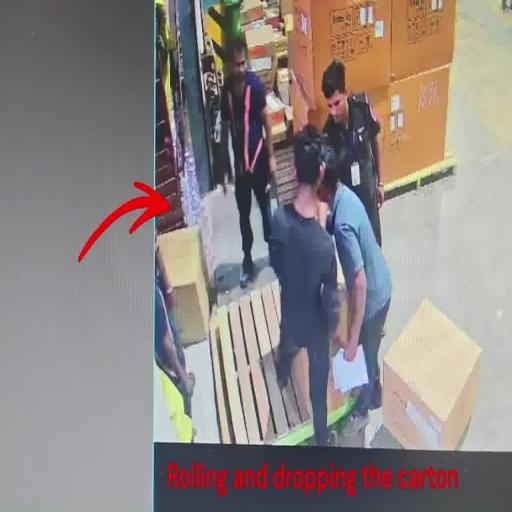carton: (381, 298, 482, 452), (280, 1, 392, 124), (390, 65, 454, 190), (286, 82, 392, 154), (158, 225, 210, 347), (390, 0, 456, 82), (249, 92, 286, 144)
pallet: (207, 278, 333, 448), (250, 130, 298, 212)
person: (269, 133, 340, 447), (314, 146, 392, 424), (218, 35, 279, 288), (318, 56, 386, 252), (154, 233, 195, 420)
